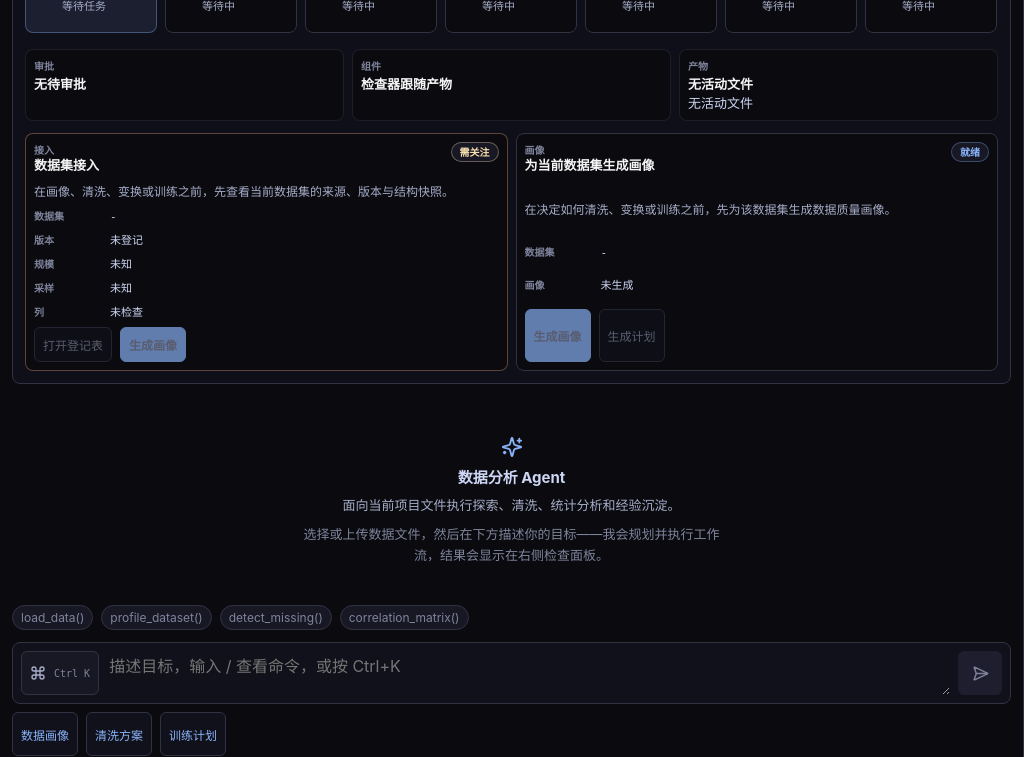
Scenario: agent command palette and slash commands › shows keyboard-navigable slash suggestions and keeps unknown commands local
The width and height of the screenshot is (1024, 757).
(page scrolled)
In the text box named "Agent 输入": (529, 673) [107,651,950,695], type "/tra"
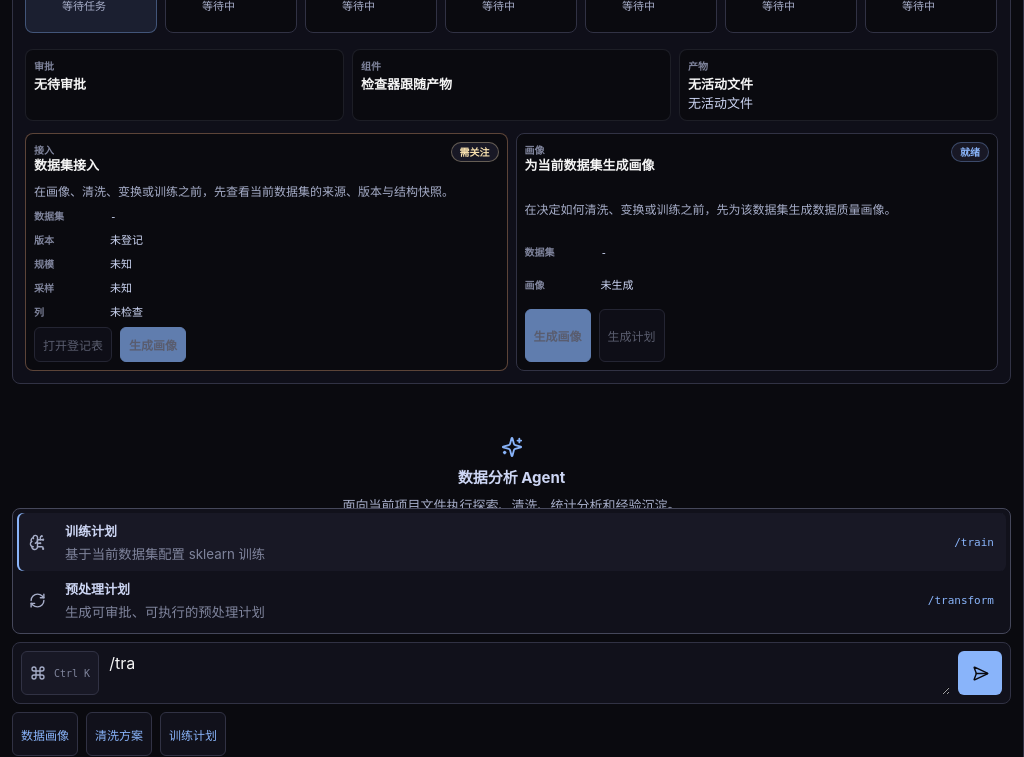
Result: the list named "Slash 命令建议" is shown at [12,508,1011,634]
Press ArrowDown in the text box named "Agent 输入", box [107,651,950,695]
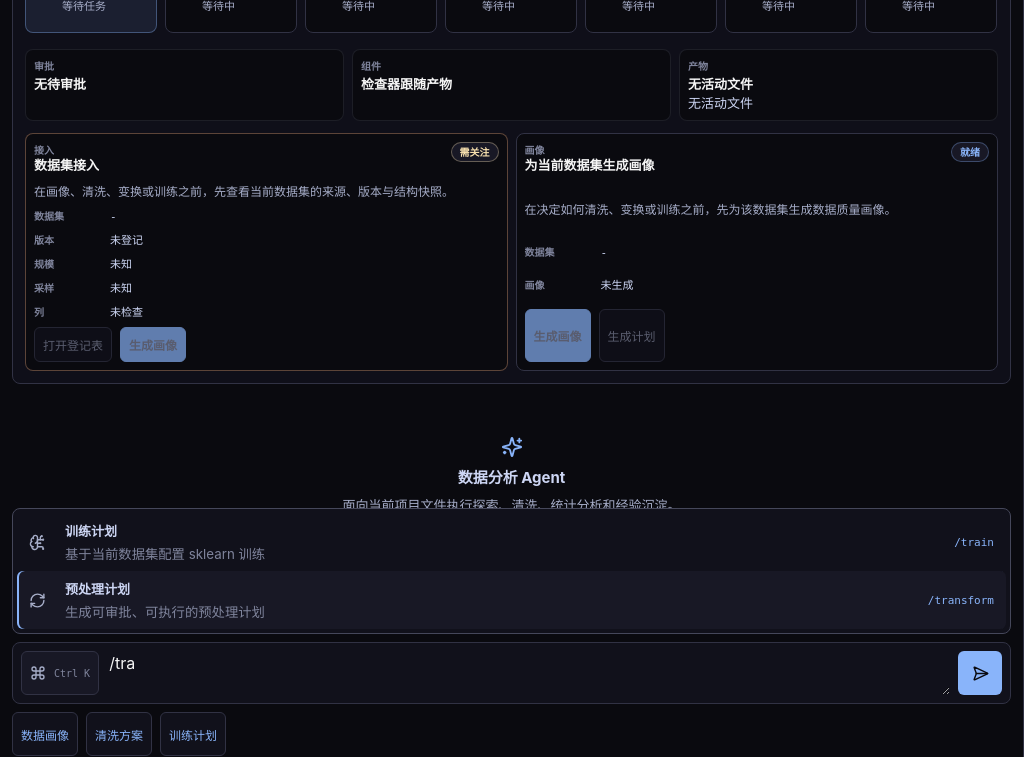
Press Enter in the text box named "Agent 输入", box [107,651,950,695]
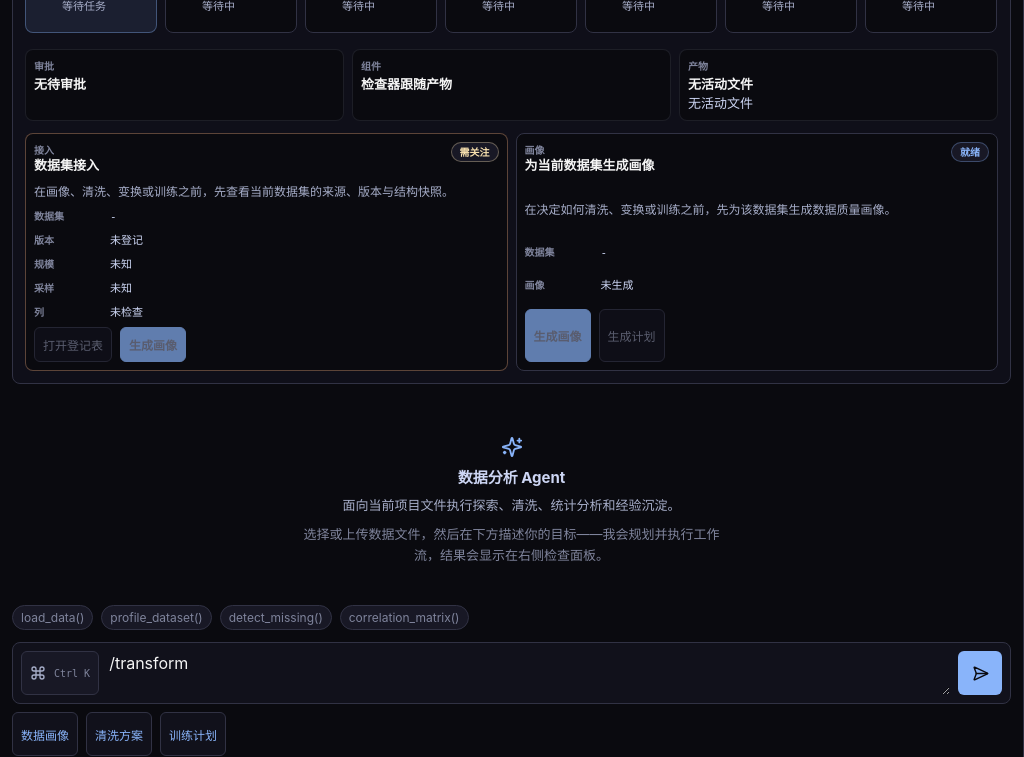
Replace the text in the text box named "Agent 输入" with "/not-a-command": (529, 673) [107,651,950,695]
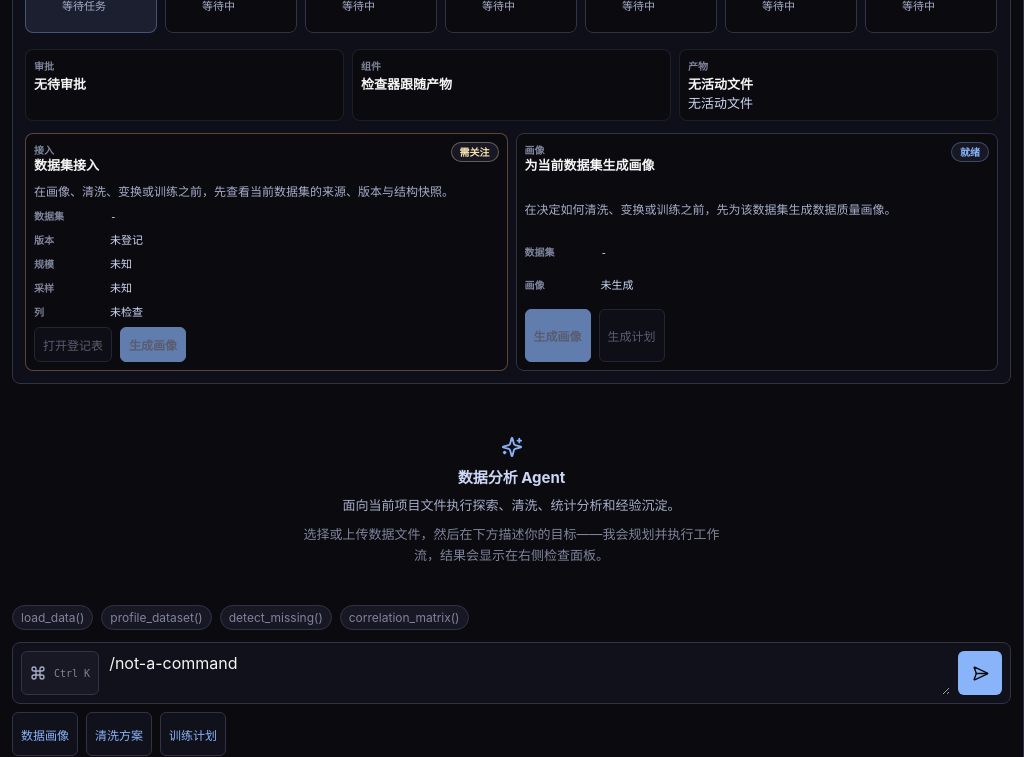
Press Enter in the text box named "Agent 输入", box [107,651,950,695]
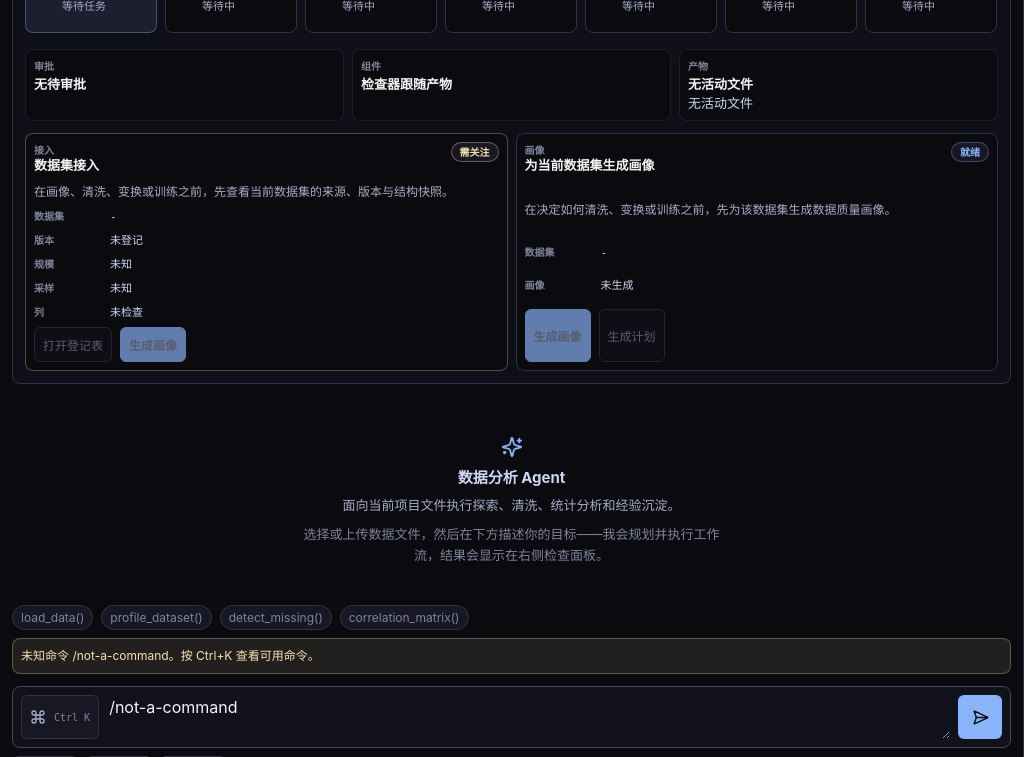
Result: the text "未知命令 /not-a-command。按 Ctrl+K 查看可用命令。" is shown at [12,638,1011,674]
